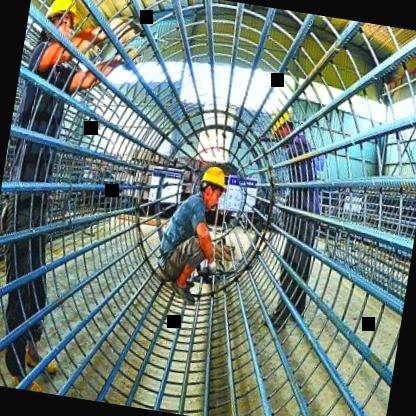helmet: (37, 0, 85, 47), (262, 96, 302, 152), (194, 159, 230, 210)
